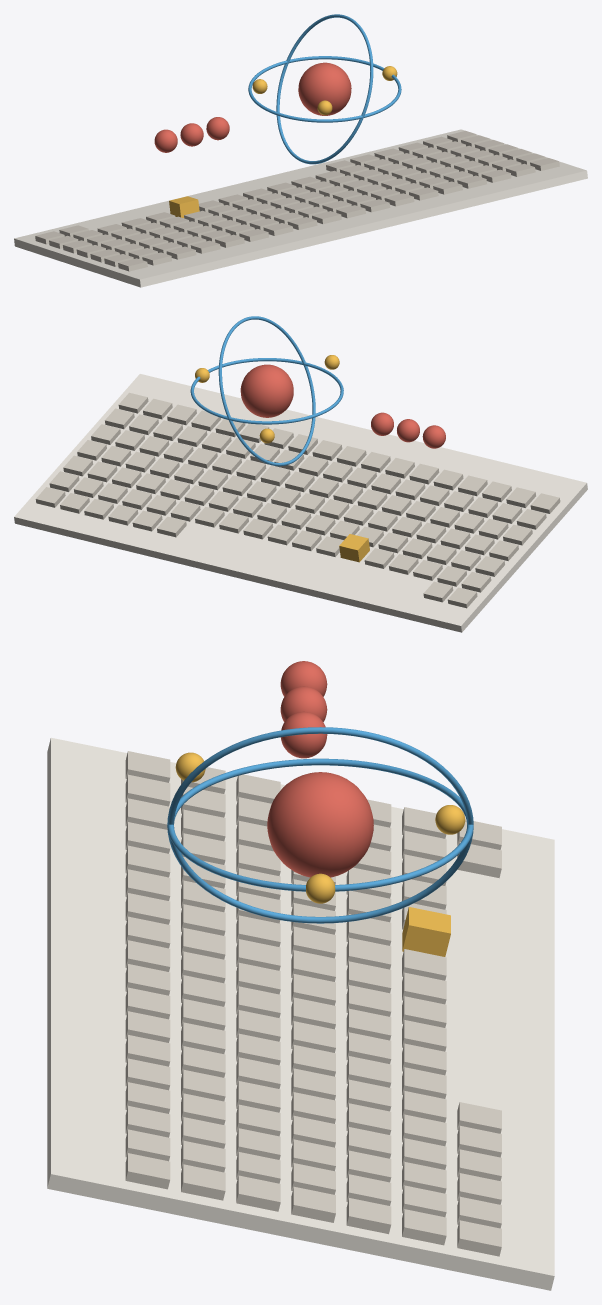
The model's file is chem-periodic-atomic-number.glb.
3 views of the same model, one above another, from view 1: azimuth 30°, elevation 25°; view 2: azimuth 150°, elevation 25°; view 3: azimuth 270°, elevation 25° (orthographic). The views are drawn at different scales.
Visible parts, largest first — view 1: table-backing, nucleus, shell-y, shell-x, highlight-cell-6-2, counted-proton-3, counted-proton-1, counted-proton-2; view 2: table-backing, nucleus, shell-y, shell-x, highlight-cell-6-2, counted-proton-1, counted-proton-2, counted-proton-3, cell-15-1, cell-11-2, cell-12-4, cell-3-5 (+100 smaller); view 3: table-backing, nucleus, shell-y, shell-x, highlight-cell-6-2, counted-proton-3, cell-18-7, cell-18-3, cell-18-1, cell-18-5, cell-18-6, cell-18-2 (+99 smaller).
Boxes of the visible parts, x1,y1,x2,y2 form: table-backing: (14,129,587,287); nucleus: (298,62,351,115); shell-y: (276,14,373,164); shell-x: (248,56,401,122); highlight-cell-6-2: (169,196,199,217); counted-proton-3: (206,117,229,140); counted-proton-1: (154,129,177,152); counted-proton-2: (180,123,203,146); table-backing: (14,374,587,632); nucleus: (240,364,293,417); shell-y: (218,316,315,466); shell-x: (190,358,343,424); highlight-cell-6-2: (339,534,369,562); counted-proton-1: (422,425,445,448); counted-proton-2: (397,419,419,442); counted-proton-3: (371,412,393,435); cell-15-1: (108,504,138,525); cell-11-2: (219,512,248,533); cell-12-4: (222,475,252,495); cell-3-5: (454,513,484,533); table-backing: (47,737,554,1290); nucleus: (267,772,373,877); shell-y: (167,727,473,923); shell-x: (167,758,473,891); highlight-cell-6-2: (402,907,450,956); counted-proton-3: (280,711,327,758); cell-18-7: (125,1153,170,1189); cell-18-3: (346,1198,391,1234); cell-18-1: (457,1220,501,1256); cell-18-5: (236,1175,280,1211); cell-18-6: (181,1164,225,1200); cell-18-2: (402,1209,446,1245).
Size of what is drawn, in the model's own units: 3.1 by 1.33 by 1.52.
